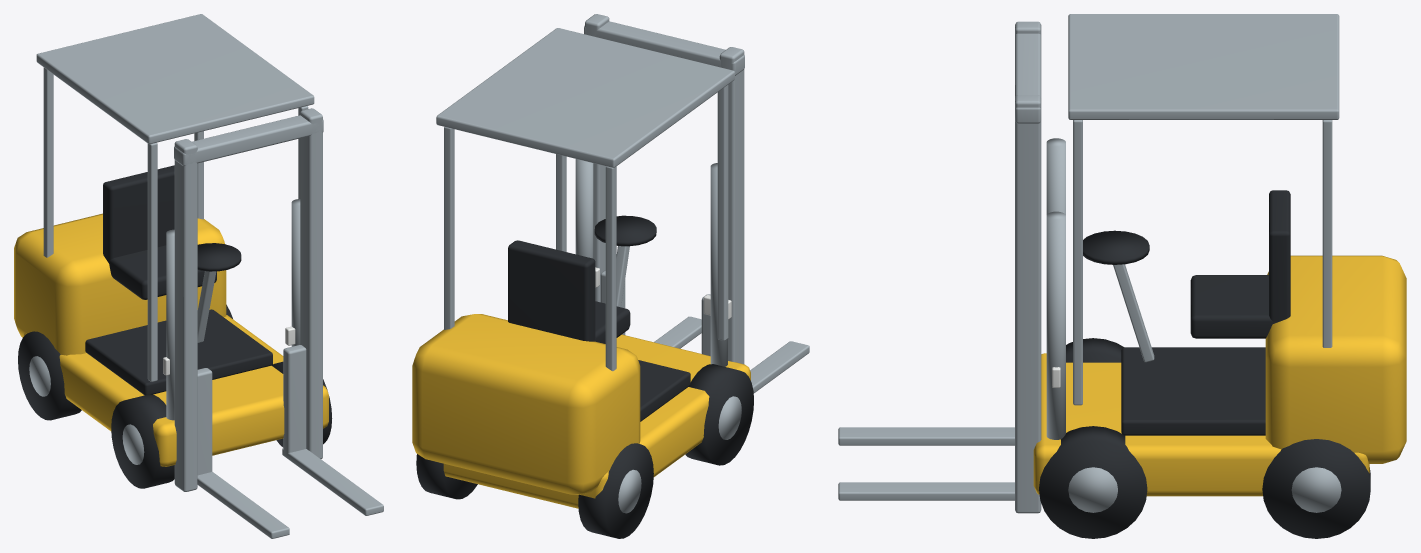
File: forklift.glb
3 views of the same model, side by side, from view 1: azimuth 30°, elevation 25°; view 2: azimuth 150°, elevation 25°; view 3: azimuth 270°, elevation 25° (orthographic). The views are drawn at different scales.
Visible parts, largest first — view 1: Guard_roof, Counterweight, Chassis, Mast_rail, Mast_rail.001, Footwell, Seat_back, Wheel, Mast_bridge, Wheel.001, Overhead_guard, Fork_back.001 (+12 smaller); view 2: Counterweight, Guard_roof, Chassis, Seat_back, Mast_rail, Wheel, Wheel.001, Overhead_guard, Mast_bridge, Overhead_guard.001, Overhead_guard.003, Footwell (+12 smaller); view 3: Guard_roof, Counterweight, Chassis, Footwell, Mast_rail.001, Wheel.002, Wheel.003, Seat_cushion, Lift_cylinder.001, Fork_blade, Fork_blade.001, Seat_back (+9 smaller).
Part boxes in pixels (x1,y1,x2,y2): Guard_roof: (36, 14, 314, 143); Counterweight: (14, 213, 226, 355); Chassis: (23, 315, 328, 466); Mast_rail: (174, 139, 197, 491); Mast_rail.001: (300, 108, 322, 458); Footwell: (85, 309, 272, 395); Seat_back: (103, 165, 174, 262); Wheel: (111, 394, 174, 488); Mast_bridge: (174, 115, 323, 166); Wheel.001: (18, 331, 81, 420); Overhead_guard: (147, 142, 157, 381); Fork_back.001: (283, 345, 306, 455); Counterweight: (412, 314, 640, 494); Guard_roof: (436, 28, 734, 167); Chassis: (443, 334, 750, 508); Seat_back: (508, 240, 595, 341); Mast_rail: (719, 47, 744, 364); Wheel: (685, 364, 753, 465); Wheel.001: (578, 443, 653, 538); Overhead_guard: (717, 85, 728, 340); Mast_bridge: (584, 21, 744, 75); Overhead_guard.001: (605, 166, 616, 371); Overhead_guard.003: (444, 127, 454, 329); Footwell: (638, 360, 690, 421); Guard_roof: (1068, 14, 1339, 119); Counterweight: (1265, 255, 1406, 463); Chassis: (1033, 353, 1369, 496); Footwell: (1121, 347, 1265, 435); Mast_rail.001: (1015, 95, 1041, 513); Wheel.002: (1039, 426, 1147, 538); Wheel.003: (1262, 439, 1370, 538); Seat_cushion: (1190, 275, 1276, 338); Lift_cylinder.001: (1046, 211, 1065, 439); Fork_blade: (838, 427, 1014, 445); Fork_blade.001: (838, 482, 1014, 500); Seat_back: (1269, 190, 1290, 322).
Size of the model in its own units: 1.13 by 2.17 by 2.62.
